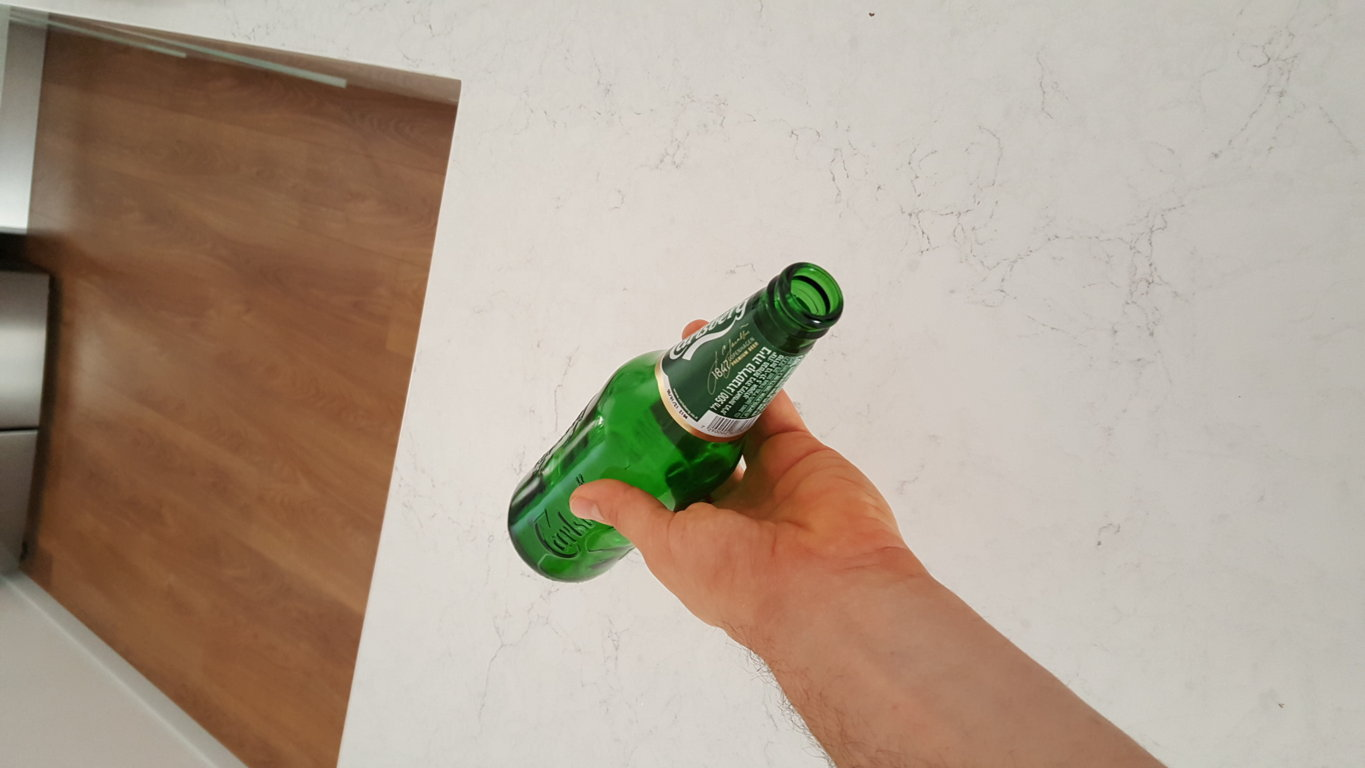beer: (508, 259, 848, 579)
